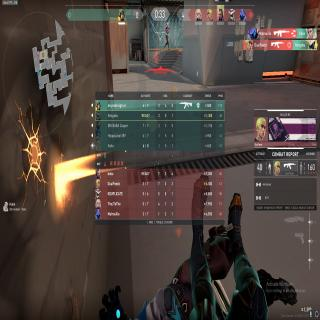ENEMY-HEAD: (166, 22, 169, 26)
